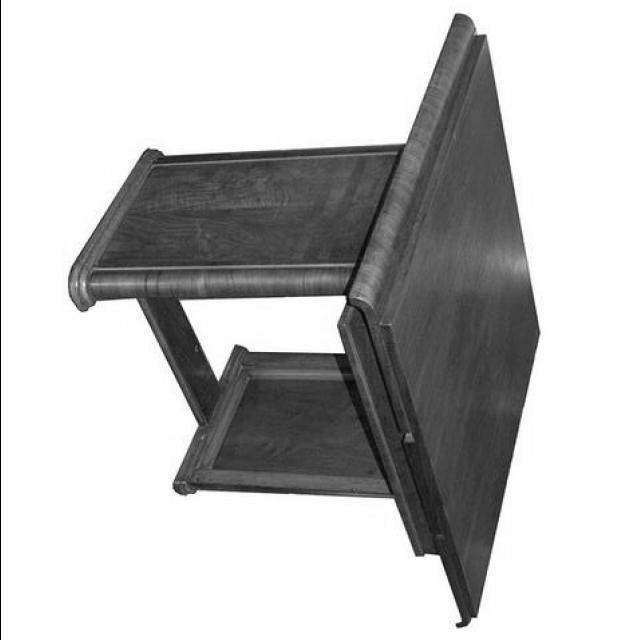table: (66, 15, 541, 628)
